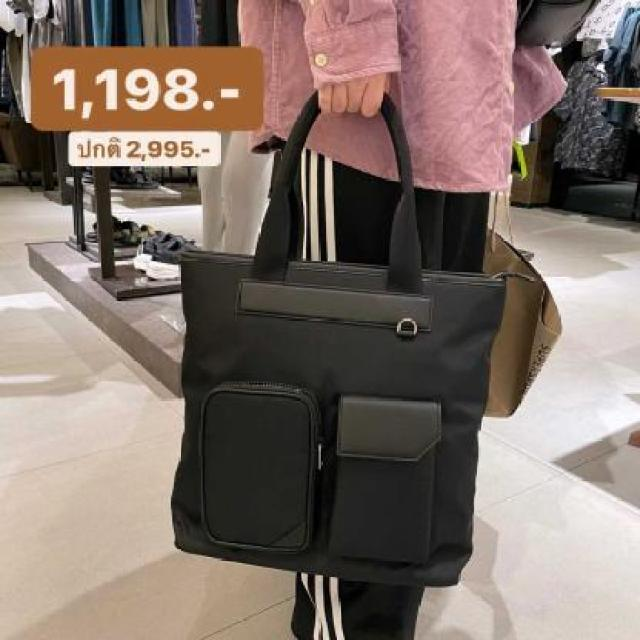Bag: (152, 60, 520, 617)
